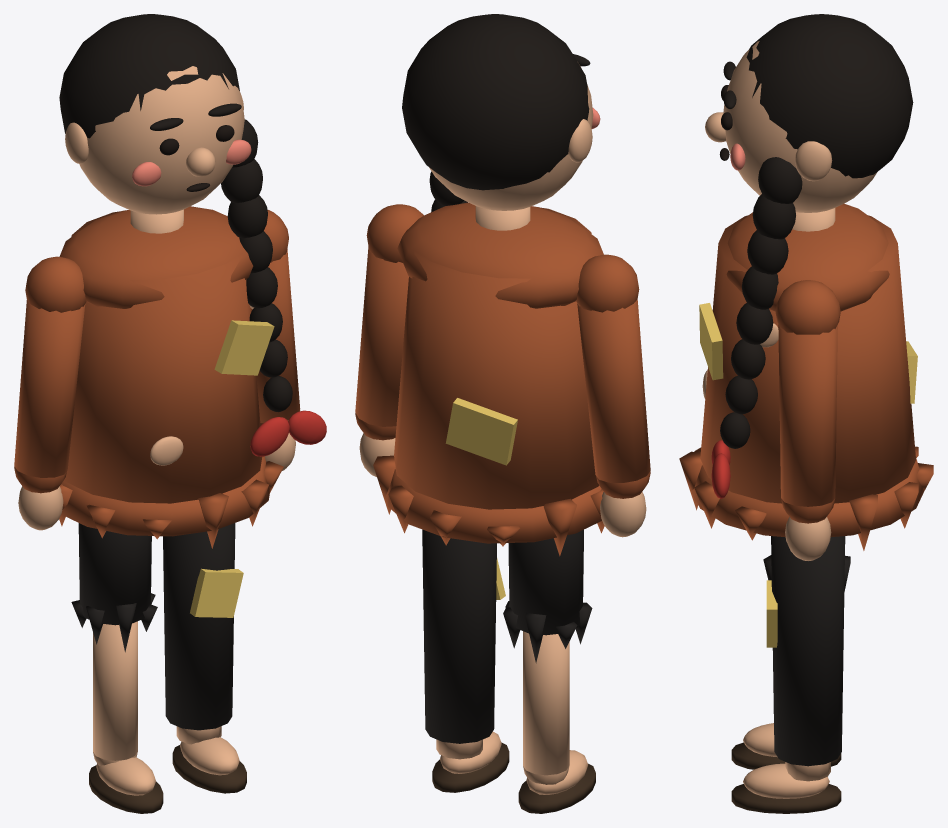
Rendered from villager_co_bim.glb.
3 views of the same model, side by side, from view 1: azimuth 30°, elevation 25°; view 2: azimuth 150°, elevation 25°; view 3: azimuth 270°, elevation 25° (orthographic). The views are drawn at different scales.
Visible parts, largest first — view 1: Body, Head, LegR, LegL, ArmL, ArmR; view 2: Body, Head, LegR, LegL, ArmL, ArmR; view 3: Body, Head, LegR, ArmR, LegL.
Part boxes in pixels (bbox=[...]): Body: bbox=[59, 206, 283, 548]; Head: bbox=[59, 14, 326, 456]; LegR: bbox=[163, 523, 246, 793]; LegL: bbox=[71, 523, 163, 813]; ArmL: bbox=[14, 256, 86, 530]; ArmR: bbox=[250, 210, 300, 470]; Body: bbox=[373, 202, 604, 556]; Head: bbox=[402, 14, 600, 212]; LegR: bbox=[422, 529, 509, 792]; LegL: bbox=[503, 529, 595, 813]; ArmL: bbox=[576, 254, 650, 537]; ArmR: bbox=[355, 204, 423, 476]; Body: bbox=[679, 203, 933, 550]; Head: bbox=[705, 14, 913, 498]; LegR: bbox=[731, 536, 845, 813]; ArmR: bbox=[775, 280, 840, 560]; LegL: bbox=[731, 555, 850, 769].
Bounding box in the file's own units: 0.6 × 1.54 × 0.4679.
